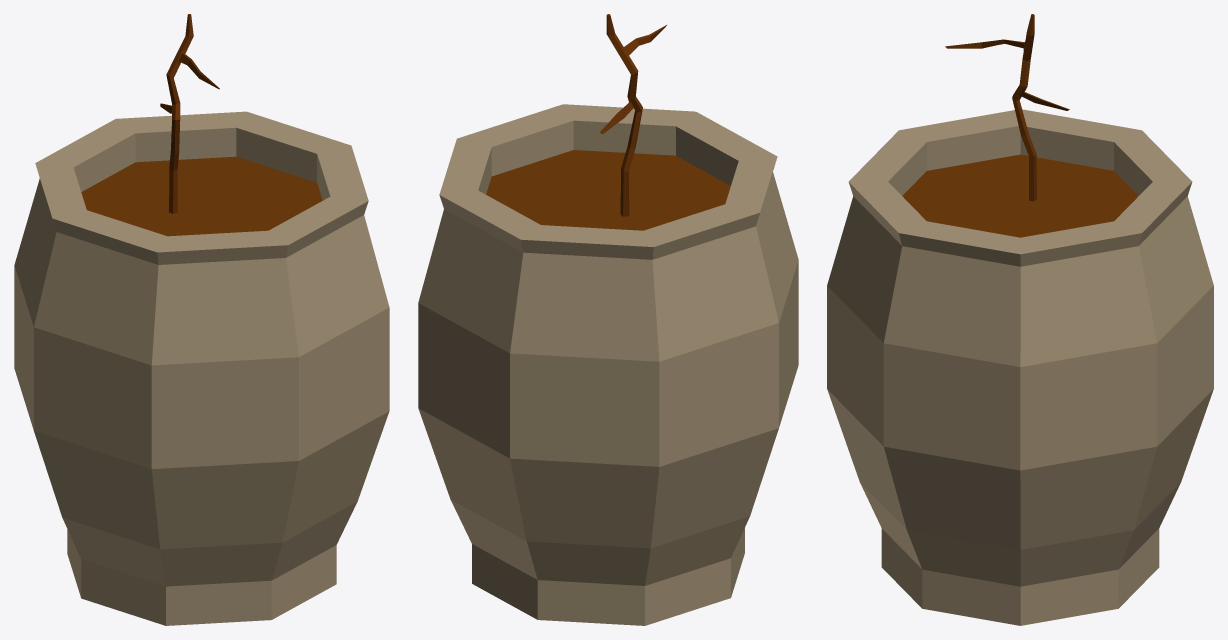
The model's file is Vase.fbx.
3 renders of one model, left to right at view 1: azimuth 30°, elevation 25°; view 2: azimuth 150°, elevation 25°; view 3: azimuth 270°, elevation 25°, orthographic.
Parts seen in each view (by area): view 1: Vase, Twig; view 2: Vase, Twig; view 3: Vase, Twig.
Part boxes in pixels (box(x1,y1,x2,y2)): Vase: box(14, 111, 389, 625); Twig: box(160, 14, 219, 213); Vase: box(418, 104, 798, 625); Twig: box(600, 14, 666, 216); Vase: box(827, 109, 1213, 625); Twig: box(945, 14, 1069, 201).
Size of the model in its own units: 66.59 by 104 by 66.59.
